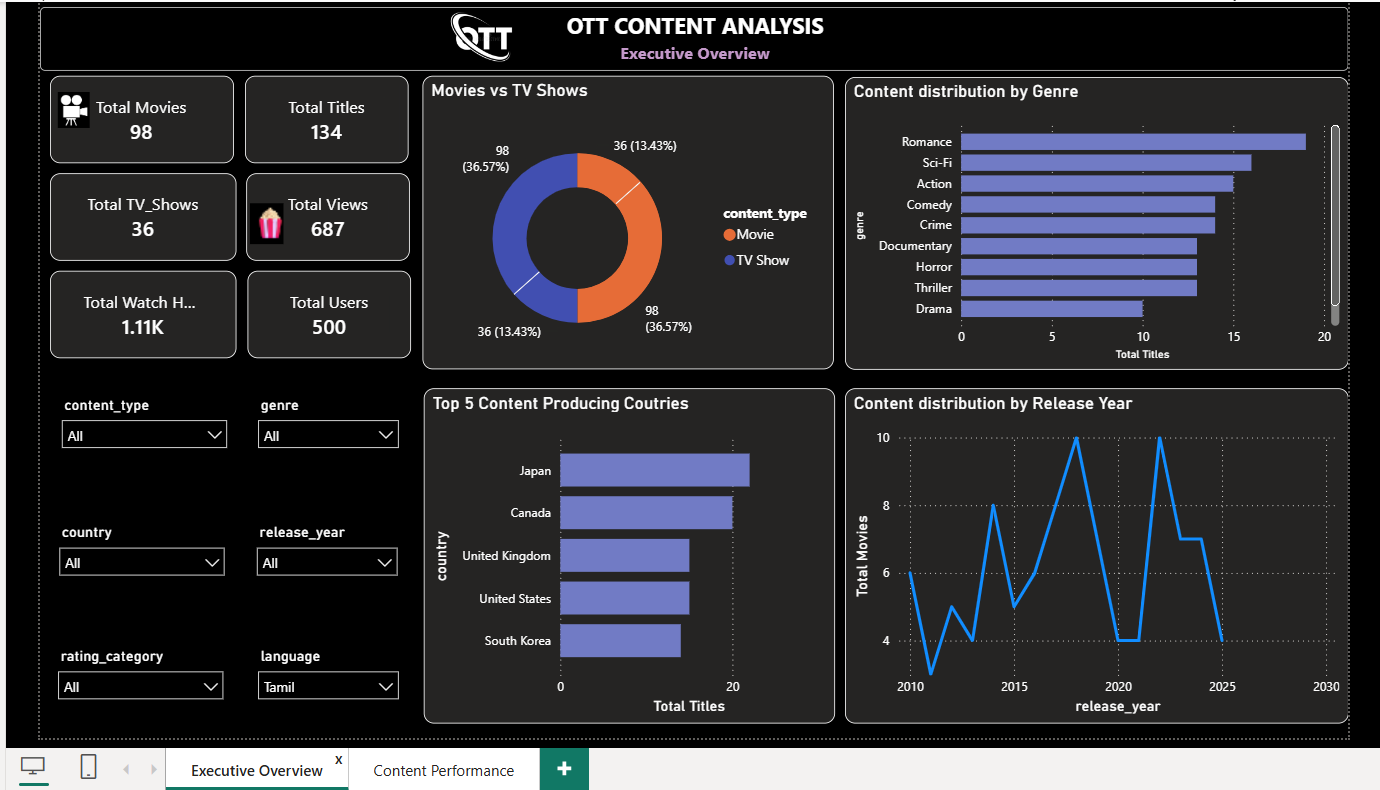

What the dashboard file says about the page in this screenshot:
{"tool":"powerbi","page":{"name":"Executive Overview","canvas":[1280,720],"ordinal":0},"visuals":[{"type":"textbox","title":"OTT CONTENT ANALYSIS","box":[0,4.9,1280.3,62.4],"z":0,"group":"g1"},{"type":"cardVisual","fields":{"Data":["Table.Total Movies"]},"box":[9.8,72.1,179.8,85.6],"z":1000,"group":"g3"},{"type":"cardVisual","fields":{"Data":["Table.Total Titles"]},"box":[200.5,72.1,160.2,85.6],"z":2000},{"type":"cardVisual","fields":{"Data":["Table.Total TV_Shows"]},"box":[9.8,167.5,182.2,85.6],"z":3000},{"type":"cardVisual","fields":{"Data":["Table.Total Views"]},"box":[201.8,167.5,160.2,85.6],"z":4000,"group":"g4"},{"type":"cardVisual","fields":{"Data":["Table.Total Users"]},"box":[203,262.9,160.2,85.6],"z":5000},{"type":"cardVisual","fields":{"Data":["Table.Total Watch Hours"]},"box":[9.8,262.9,182.2,85.6],"z":6000},{"type":"donutChart","title":"Movies vs TV Shows","fields":{"Y":["Table.Total TV_Shows","Table.Total Movies"],"Category":["Content.content_type"]},"box":[374.2,72.1,402.3,287.4],"z":7000},{"type":"clusteredBarChart","title":"Content distribution by Genre","fields":{"Category":["Content.genre"],"Y":["Table.Total Titles"]},"box":[787.5,73.4,492.8,286.1],"z":8000},{"type":"clusteredBarChart","title":"Top 5 Content Producing Coutries","fields":{"Category":["Content.country"],"Y":["Table.Total Titles"]},"box":[375.4,377.9,402.3,327.7],"z":9000},{"type":"lineChart","title":"Content distribution by Release Year","fields":{"Y":["Table.Total Movies"],"Category":["Content.release_year"]},"box":[787.5,377.9,492.8,327.7],"z":10000},{"type":"slicer","fields":{"Values":["Content.content_type"]},"box":[11,380.3,182.2,73.4],"z":11000},{"type":"slicer","fields":{"Values":["Content.genre"]},"box":[203,380.3,157.7,73.4],"z":12000},{"type":"slicer","fields":{"Values":["Content.country"]},"box":[8.6,505,182.2,73.4],"z":13000},{"type":"slicer","fields":{"Values":["Content.release_year"]},"box":[201.8,505,157.7,73.4],"z":14000},{"type":"slicer","fields":{"Values":["Content.rating_category"]},"box":[7.3,626.1,182.2,79.5],"z":15000},{"type":"slicer","fields":{"Values":["Content.language"]},"box":[203,626.1,157.7,79.5],"z":16000},{"type":"group","id":"g1","title":"Group 1","box":[0,4.9,1280.3,62.4],"z":16002,"group":"g2"},{"type":"image","box":[397.4,8.6,69.7,53.8],"z":16003,"group":"g2"},{"type":"image","box":[11,88,44,35.5],"z":16003,"group":"g3"},{"type":"group","id":"g2","title":"Group 2","box":[0,4.9,1280.3,62.4],"z":16004},{"type":"group","id":"g3","title":"Group 3","box":[9.8,72.1,179.8,85.6],"z":16005},{"type":"image","box":[203,196.8,37.9,40.4],"z":16006,"group":"g4"},{"type":"group","id":"g4","title":"Group 4","box":[201.8,167.5,160.2,85.6],"z":16007}]}

Visuals, with their boxes on the page's 1280x720 design canvas (x1, y1, x2, y2). These are canvas units, not pixel positions in the 1380x790 screenshot, which may show the page scaled, cropped or inside an application window:
"OTT CONTENT ANALYSIS" textbox: 0,5,1280,67
cardVisual - Table.Total Movies: 10,72,190,158
cardVisual - Table.Total Titles: 200,72,361,158
cardVisual - Table.Total TV_Shows: 10,168,192,253
cardVisual - Table.Total Views: 202,168,362,253
cardVisual - Table.Total Users: 203,263,363,348
cardVisual - Table.Total Watch Hours: 10,263,192,348
"Movies vs TV Shows" donutChart: 374,72,776,360
"Content distribution by Genre" clusteredBarChart: 788,73,1280,360
"Top 5 Content Producing Coutries" clusteredBarChart: 375,378,778,706
"Content distribution by Release Year" lineChart: 788,378,1280,706
slicer - Content.content_type: 11,380,193,454
slicer - Content.genre: 203,380,361,454
slicer - Content.country: 9,505,191,578
slicer - Content.release_year: 202,505,360,578
slicer - Content.rating_category: 7,626,190,706
slicer - Content.language: 203,626,361,706
"Group 1" group: 0,5,1280,67
image: 397,9,467,62
image: 11,88,55,124
"Group 2" group: 0,5,1280,67
"Group 3" group: 10,72,190,158
image: 203,197,241,237
"Group 4" group: 202,168,362,253
